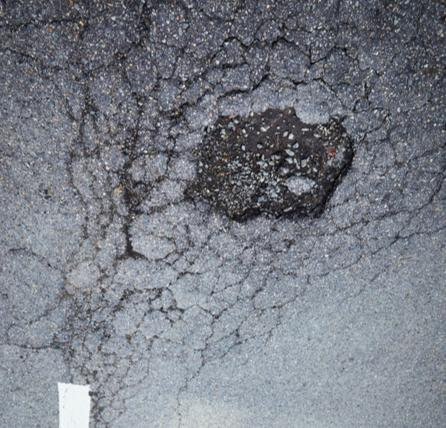pothole: (173, 97, 368, 240)
